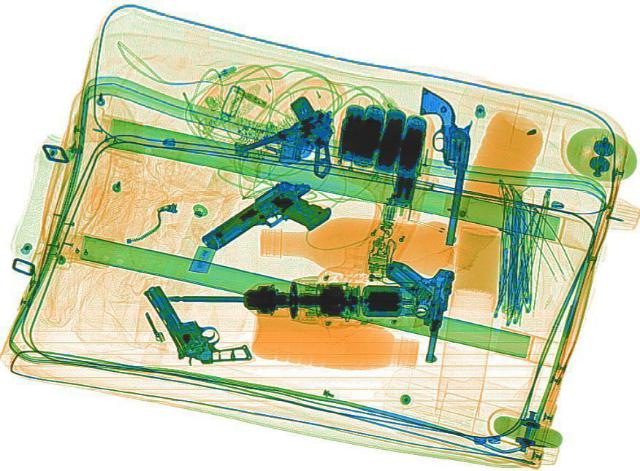Gun: (194, 173, 342, 272), (227, 109, 366, 195), (402, 85, 476, 244), (142, 272, 250, 373), (366, 258, 456, 363)
